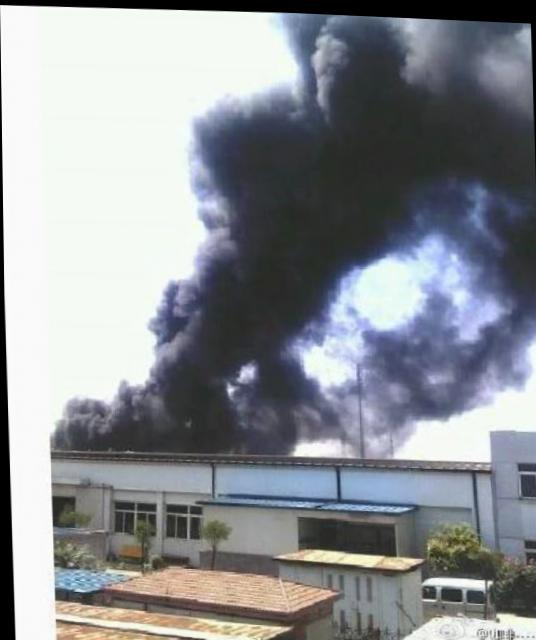smoke: (176, 74, 529, 260), (322, 255, 534, 454), (39, 369, 327, 461), (142, 249, 325, 374), (271, 9, 524, 92)
